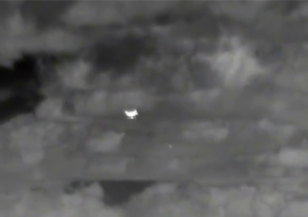Target: (126, 110, 171, 147)
